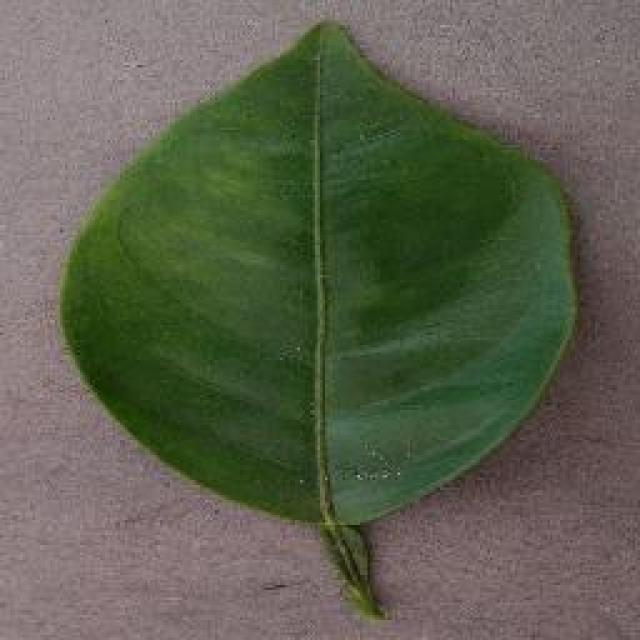Orange_Haunglongbing_Citrus_greening: (119, 102, 546, 472)
